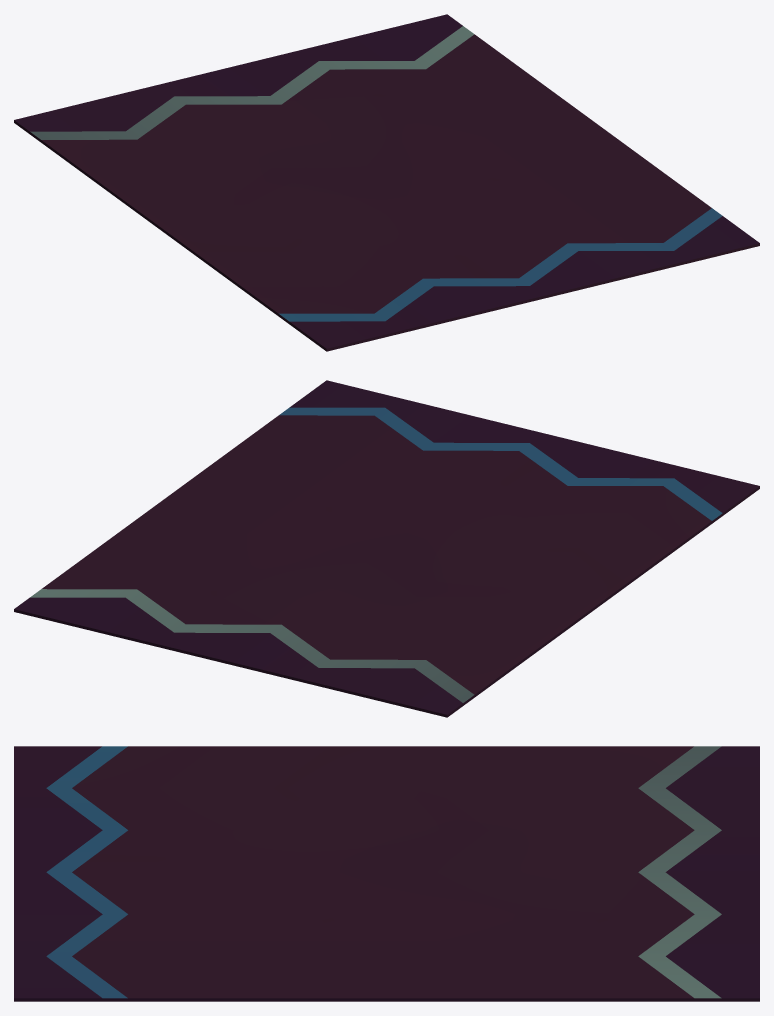
Rendered from Prop_Rug_Purple02.fbx.
3 views of the same model, one above another, from view 1: azimuth 30°, elevation 25°; view 2: azimuth 150°, elevation 25°; view 3: azimuth 270°, elevation 25° (orthographic). The views are drawn at different scales.
Visible parts, largest first — view 1: Rug_Bluee.002; view 2: Rug_Bluee.002; view 3: Rug_Bluee.002.
Part boxes in pixels (left/top/right/bottom): Rug_Bluee.002: left=14, top=14, right=759, bottom=351; Rug_Bluee.002: left=14, top=380, right=759, bottom=717; Rug_Bluee.002: left=14, top=746, right=759, bottom=1001.
Size of the model in its own units: 156 by 0.9675 by 194.
